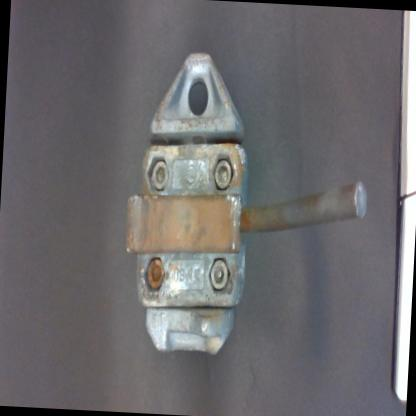Twistlock: (111, 42, 381, 370)
